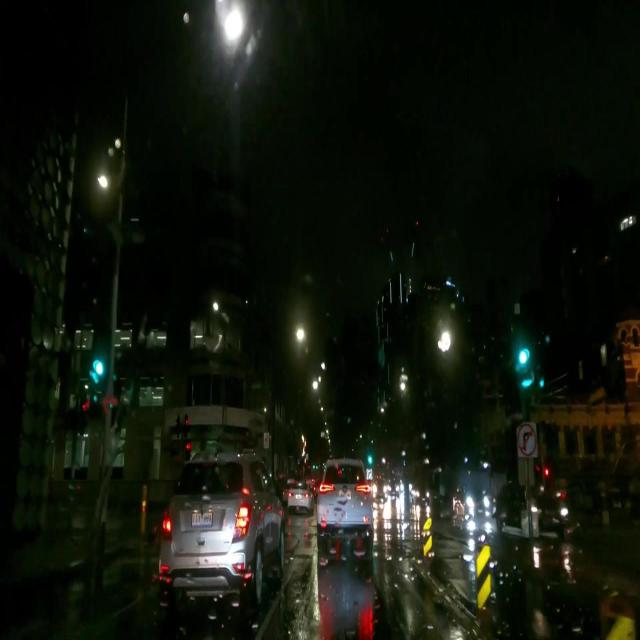Car: (158, 453, 281, 597), (313, 453, 374, 543)
